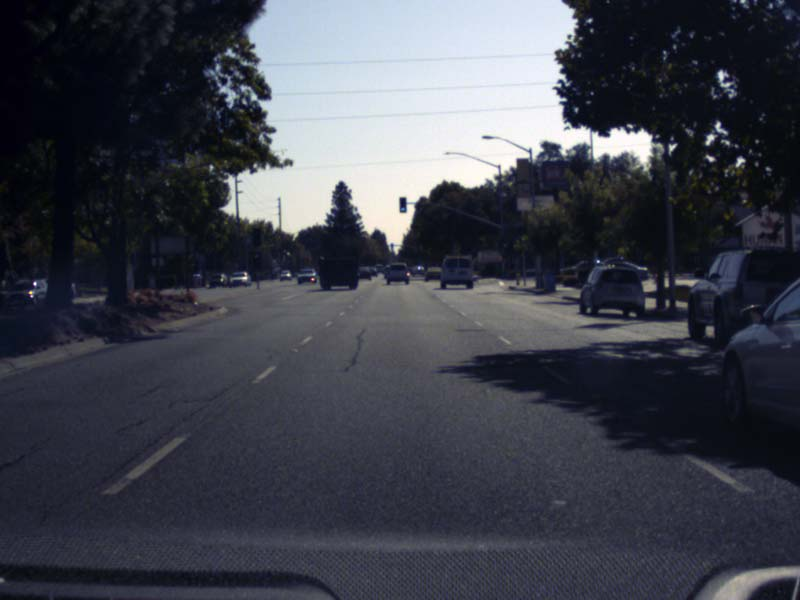Green: (399, 198, 405, 211), (502, 237, 506, 248)
Red: (252, 252, 261, 269)
